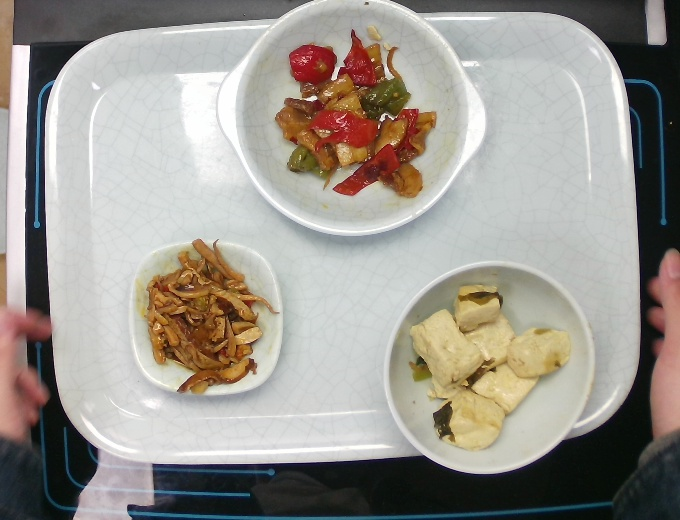JYsf-Fan_Wan: (381, 259, 598, 477)
JYsf-Shuang_Er_Wan: (212, 1, 490, 238)
JYsf-Si_Fang_Die: (125, 239, 286, 399)
